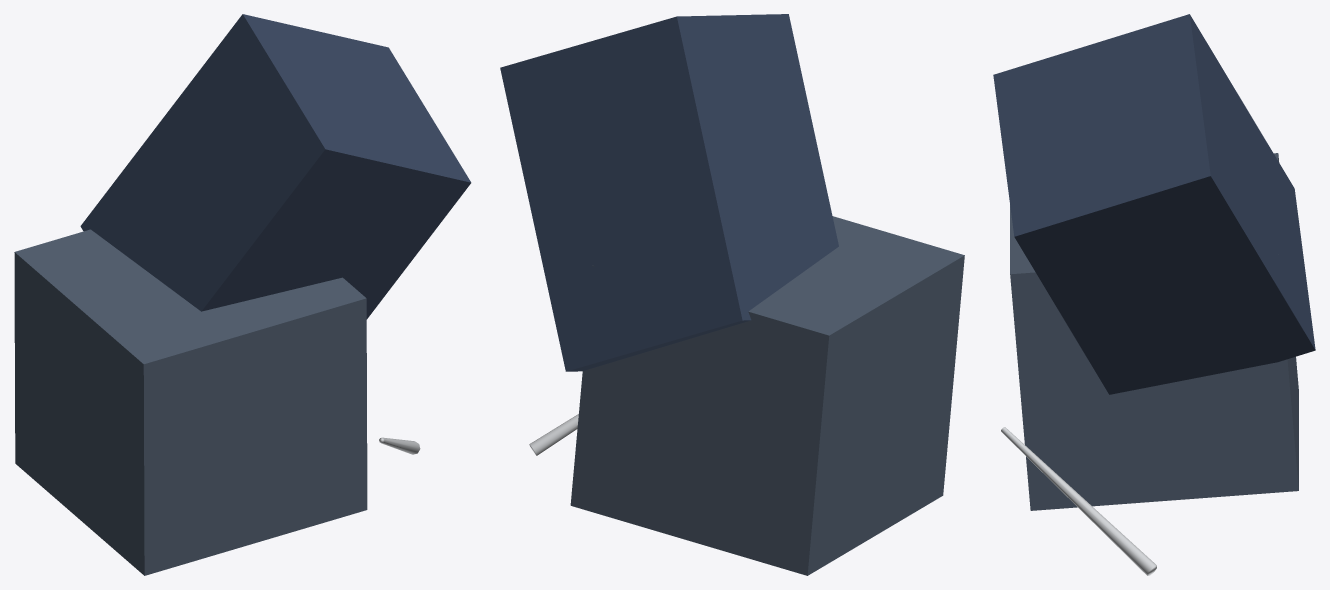
Rendered from skyscraper-wreck.glb.
The picture shows the model from 3 angles, left to right: view 1: azimuth 30°, elevation 25°; view 2: azimuth 150°, elevation 25°; view 3: azimuth 270°, elevation 25°; orthographic projection. The views are drawn at different scales.
Visible parts, largest first — view 1: Root; view 2: Root; view 3: Root.
Part boxes in pixels (x1,y1,x2,y2): Root: (14,14,471,575); Root: (500,14,964,575); Root: (993,14,1315,575).
Bounding box in the file's own units: 16.16 × 20.86 × 12.58.
